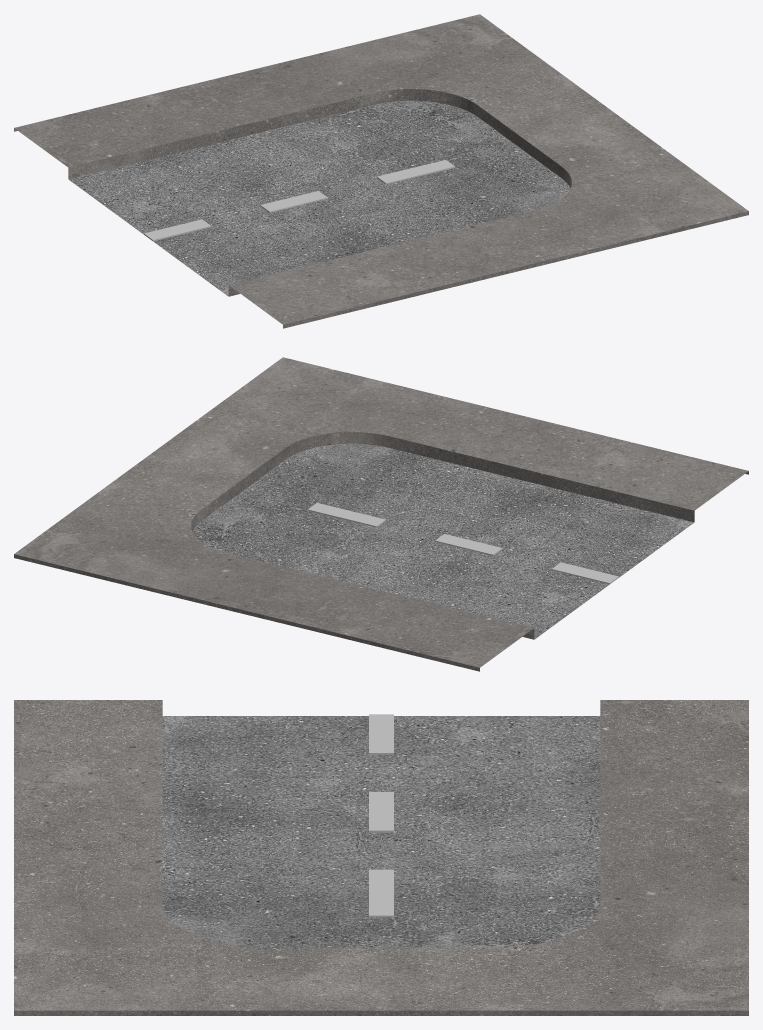
The model's file is deadend_street.fbx.
The picture shows the model from 3 angles, top to bottom: view 1: azimuth 30°, elevation 25°; view 2: azimuth 150°, elevation 25°; view 3: azimuth 270°, elevation 25°; orthographic projection. The views are drawn at different scales.
Parts seen in each view (by area): view 1: Street_deadend; view 2: Street_deadend; view 3: Street_deadend.
Part boxes in pixels (bbox=[...]): Street_deadend: bbox=[14, 14, 748, 328]; Street_deadend: bbox=[14, 357, 748, 671]; Street_deadend: bbox=[14, 700, 748, 1015].
Size of the model in its own units: 10 by 10 by 0.2403.
3 materials, 2 textured.
